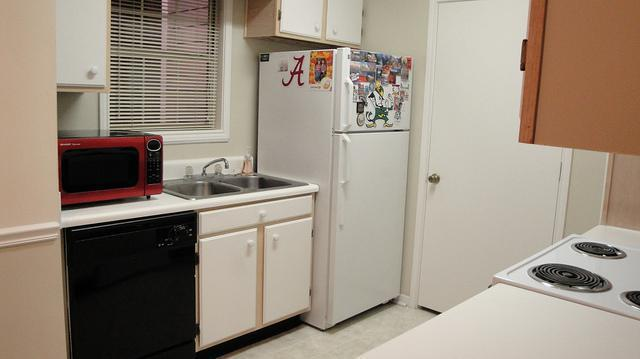Lavaplatos: (160, 149, 308, 211)
